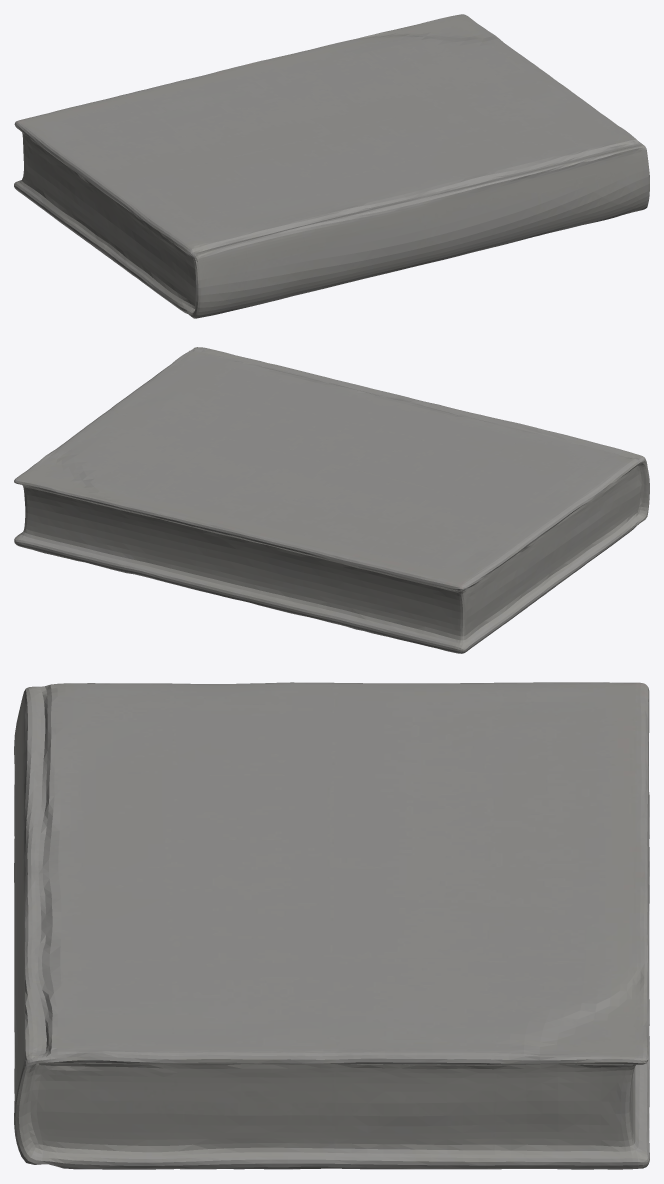
The model's file is book.glb.
3 renders of one model, top to bottom at view 1: azimuth 30°, elevation 25°; view 2: azimuth 150°, elevation 25°; view 3: azimuth 270°, elevation 25°, orthographic. The views are drawn at different scales.
Visible parts, largest first — view 1: tripo_node_5adfc12f-a99c-43cf-a356-85e6f9dda8be; view 2: tripo_node_5adfc12f-a99c-43cf-a356-85e6f9dda8be; view 3: tripo_node_5adfc12f-a99c-43cf-a356-85e6f9dda8be.
Boxes of the visible parts, left/top/right/bottom form: tripo_node_5adfc12f-a99c-43cf-a356-85e6f9dda8be: left=14, top=14, right=649, bottom=318; tripo_node_5adfc12f-a99c-43cf-a356-85e6f9dda8be: left=14, top=347, right=649, bottom=653; tripo_node_5adfc12f-a99c-43cf-a356-85e6f9dda8be: left=14, top=682, right=649, bottom=1169.
Size of the model in its own units: 0.9989 by 0.1471 by 0.7128.
1 material, 1 textured.
